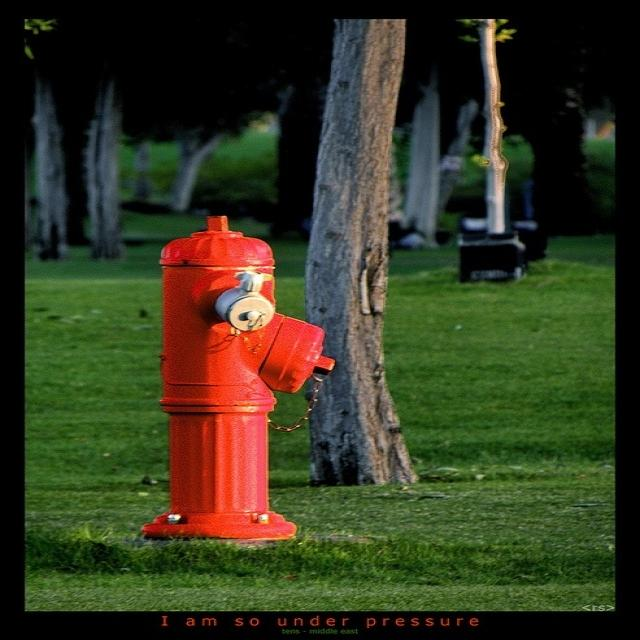fire_hydrant: (130, 211, 328, 560)
